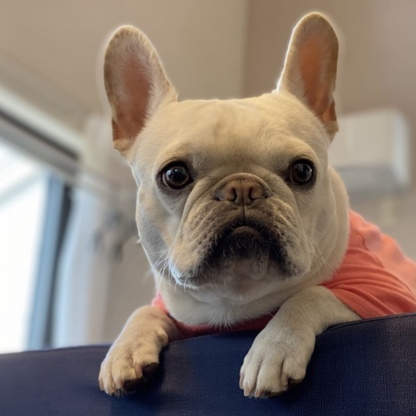bulldog: (95, 17, 403, 401)
